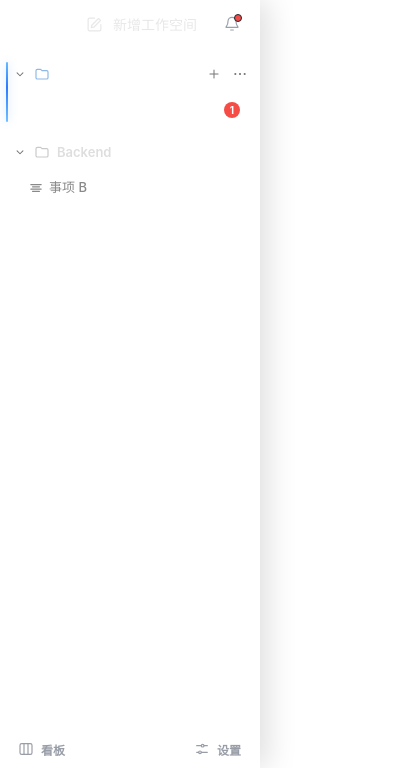
Scenario: reference product notification hierarchy interactions › navigates to an existing target, removes only that notification, and closes the center
Click the button named "通知中心".
click(232, 24)  # box [217,9,247,39]
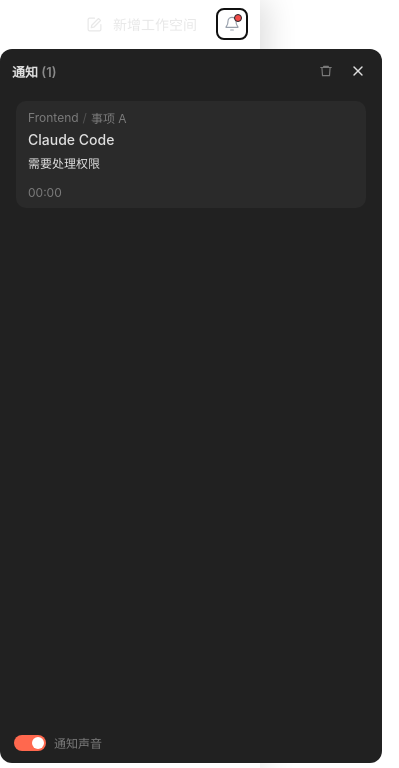
Click the button with aria-label "打开通知：需要处理权限".
click(53, 118)  # box [28,109,354,200]
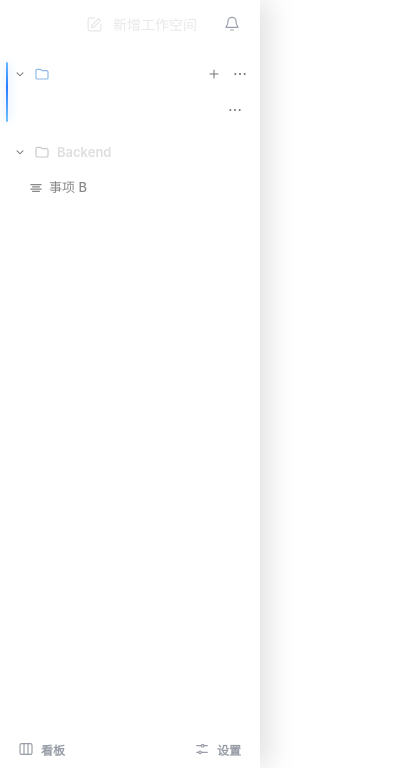
expect the text "通知 (1) Frontend / 事项 A Claude Code 需要处理权限 00:00 通知声音" is gone: met
